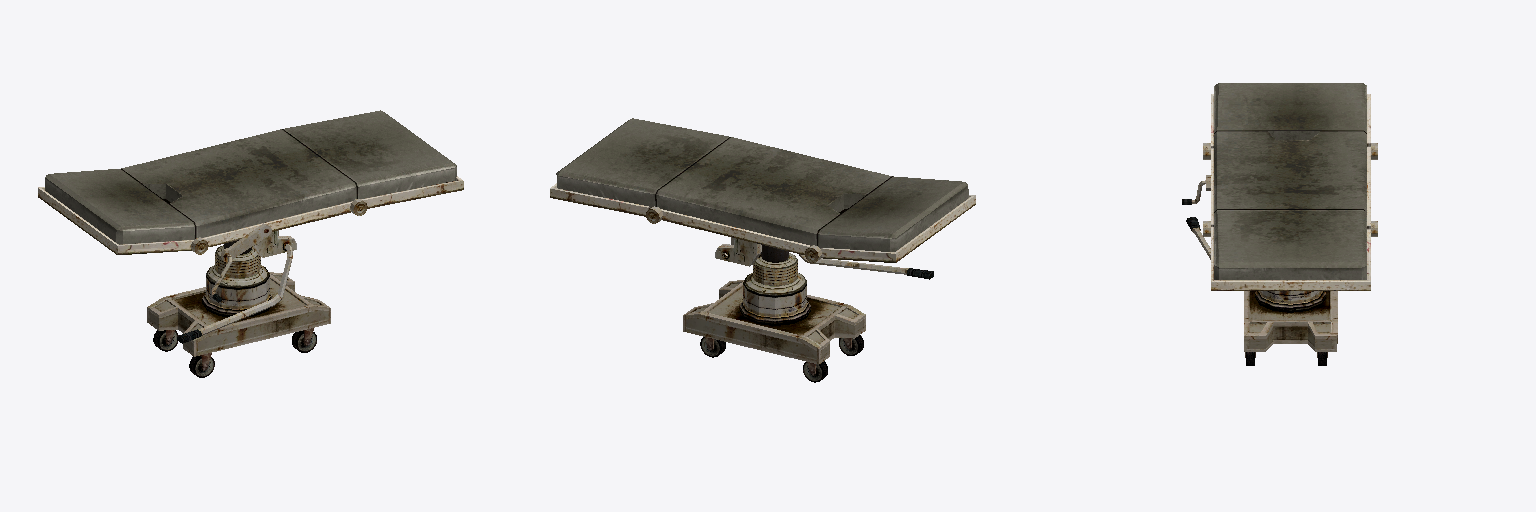
3 renders of one model, left to right at view 1: azimuth 30°, elevation 25°; view 2: azimuth 150°, elevation 25°; view 3: azimuth 270°, elevation 25°, orthographic.
Visible parts, largest first — view 1: operat_table01_obj_uni17_ag; view 2: operat_table01_obj_uni17_ag; view 3: operat_table01_obj_uni17_ag.
Part boxes in pixels (left/top/right/bottom): operat_table01_obj_uni17_ag: left=38, top=110, right=463, bottom=377; operat_table01_obj_uni17_ag: left=550, top=118, right=975, bottom=382; operat_table01_obj_uni17_ag: left=1182, top=83, right=1377, bottom=365.
Bounding box in the file's own units: 238 × 122 × 117.
Materials: 1 (1 with a texture image).